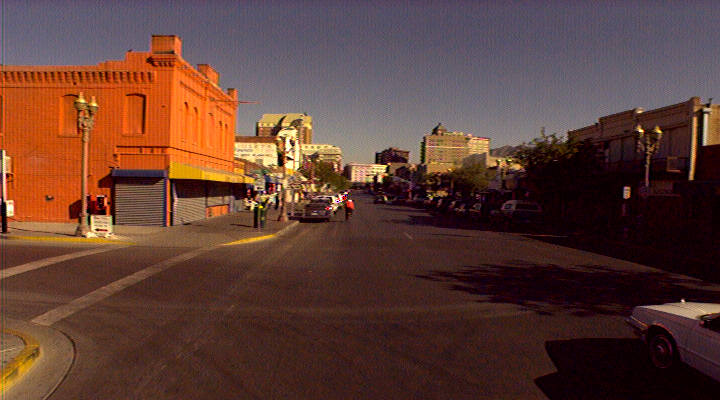Ramp: (108, 229, 238, 252)
